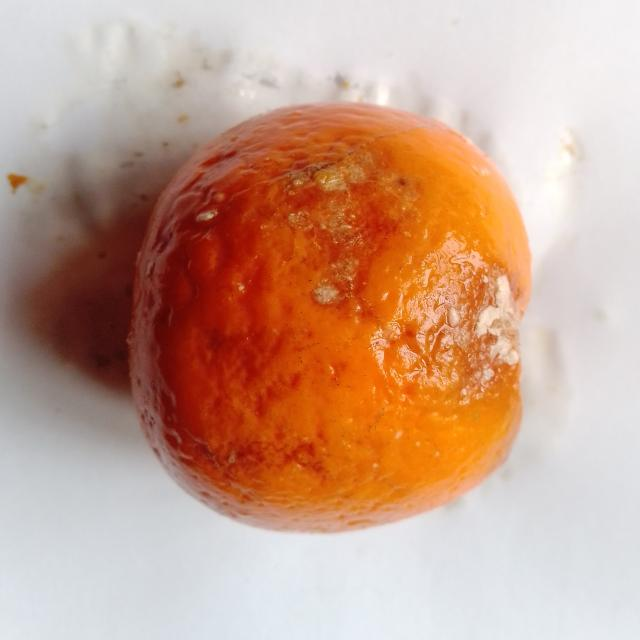orange: (130, 104, 530, 531)
